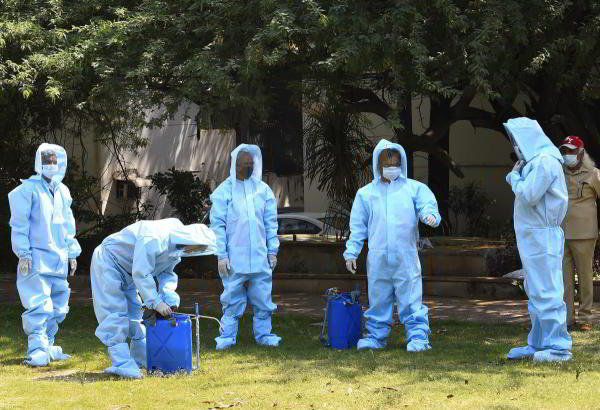Coverall: (91, 213, 215, 373), (350, 138, 441, 342), (496, 116, 574, 350), (7, 141, 78, 353), (207, 143, 281, 338)
Gloves: (340, 254, 359, 273), (18, 259, 34, 279), (216, 257, 231, 277), (266, 250, 280, 269)
with_mask: (379, 157, 403, 185), (39, 163, 61, 182)
